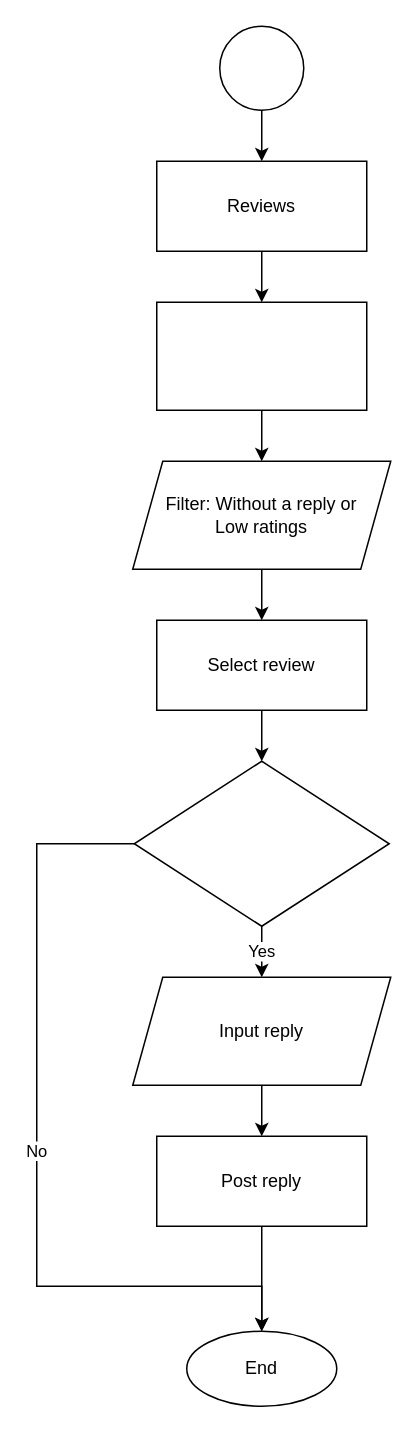
Some shapes in this 417 by 1433 pixel diagram are drawn without their labels. Each missing label, with the centre of its shape:
Do you want to reply?: the point at 261,843
RVW: the point at 261,67
View ratings by product and reviews: the point at 261,355
